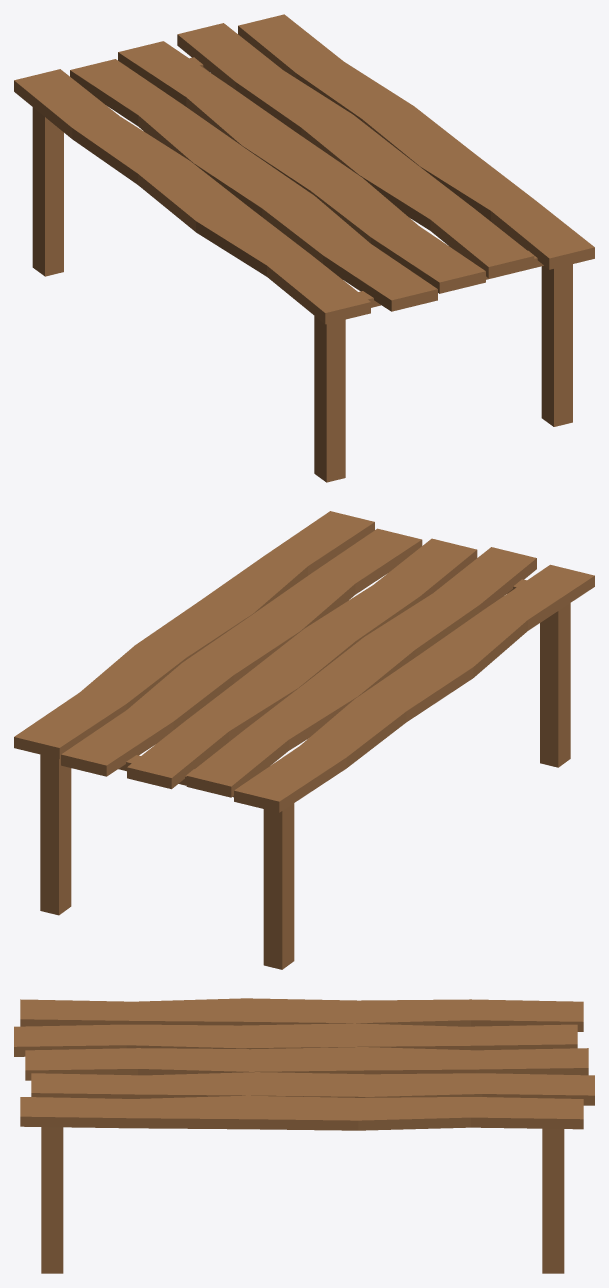
Rendered from Table.fbx.
3 views of the same model, one above another, from view 1: azimuth 30°, elevation 25°; view 2: azimuth 150°, elevation 25°; view 3: azimuth 270°, elevation 25° (orthographic). The views are drawn at different scales.
Visible parts, largest first — view 1: Cube.007; view 2: Cube.007; view 3: Cube.007.
Part boxes in pixels (left/top/right/bottom): Cube.007: left=14, top=14, right=594, bottom=482; Cube.007: left=14, top=511, right=594, bottom=969; Cube.007: left=14, top=998, right=594, bottom=1273.
Size of the model in its own units: 102 by 62.86 by 205.
